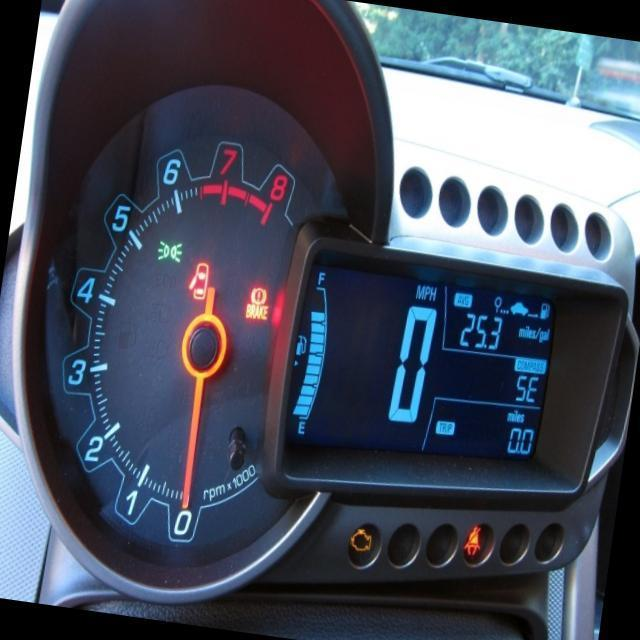Doors: (187, 259, 210, 300)
SideLamp: (154, 236, 184, 263)
